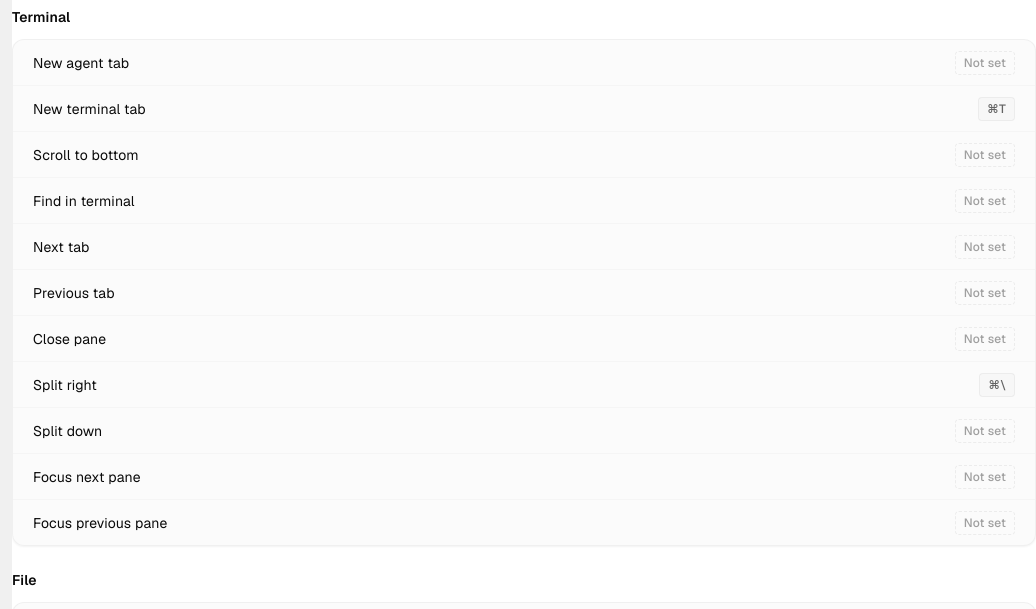
ShortcutsTab › records a new combo straight after a conflict
(page scrolled)
Click the button named "Change shortcut for Split right" at (997, 384), box [979,372,1015,397]
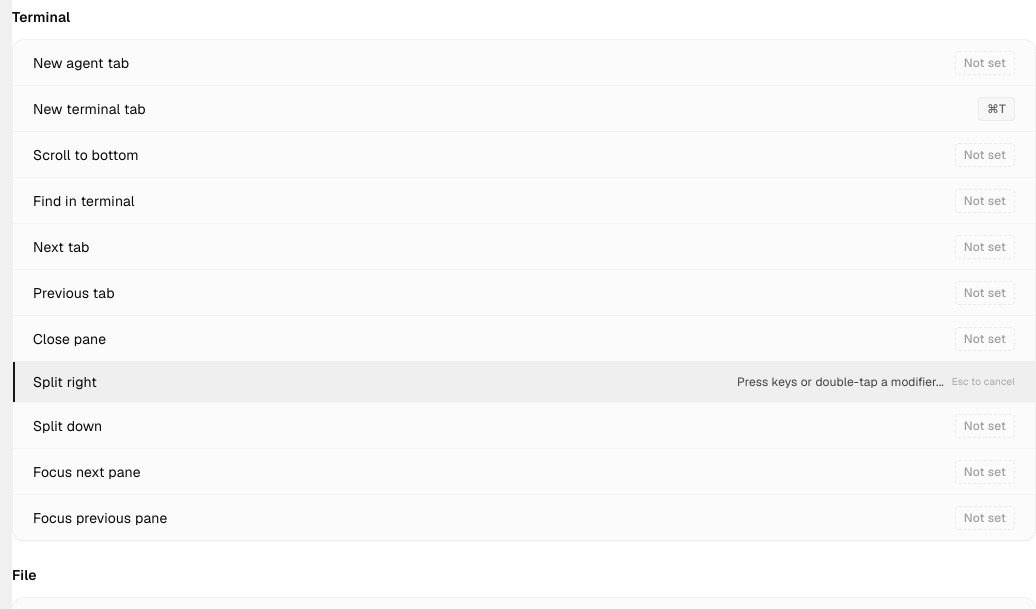
Press t
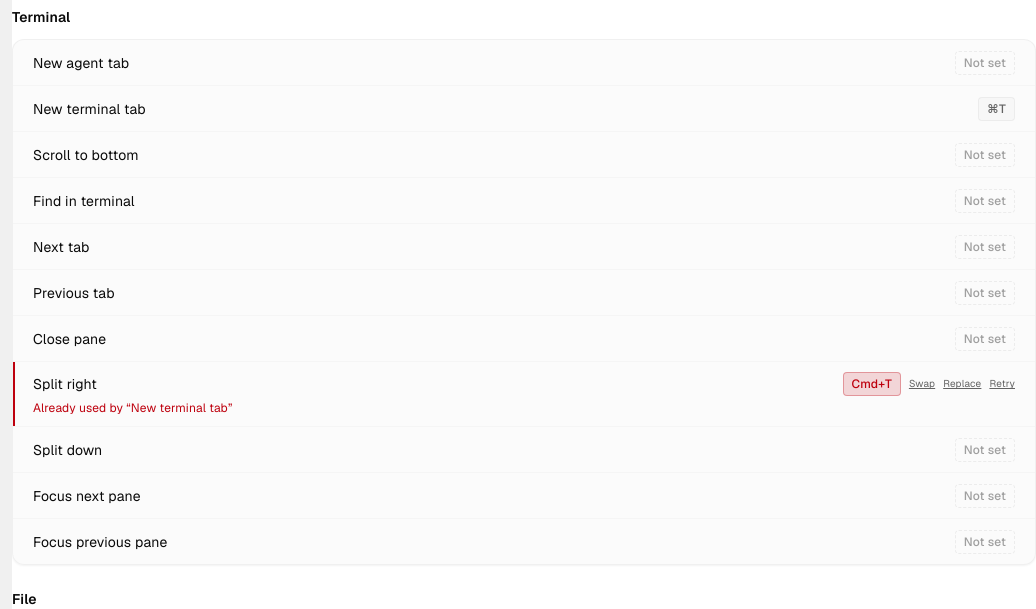
Expected: the text "Already used by “New terminal tab”" is shown, [33,400,232,416]
# ...and the keyboard retries by pressing another combo.
Press y
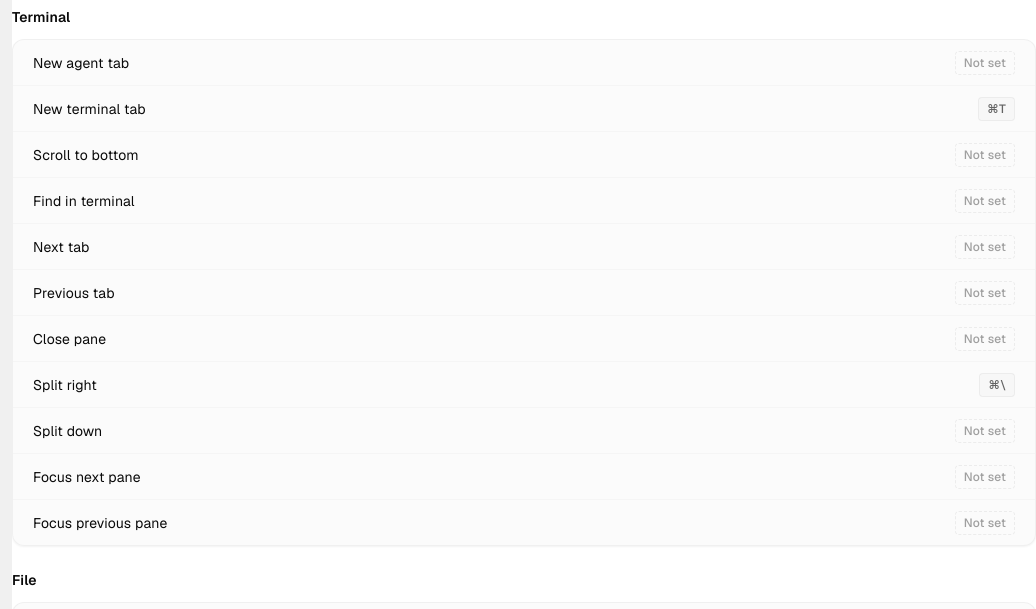
Expected: the text "Already used by" is gone
